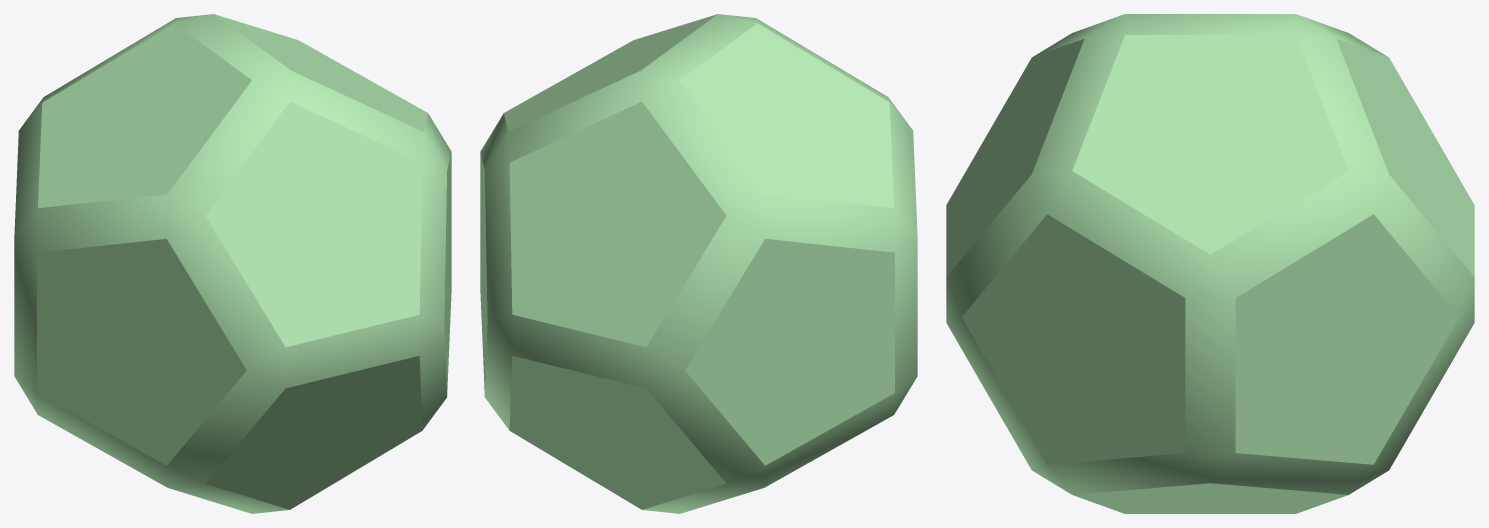
Rendered from Geo_col.fbx.
The picture shows the model from 3 angles, left to right: view 1: azimuth 30°, elevation 25°; view 2: azimuth 150°, elevation 25°; view 3: azimuth 270°, elevation 25°; orthographic projection. The views are drawn at different scales.
Parts seen in each view (by area): view 1: collider1; view 2: collider1; view 3: collider1.
Boxes of the visible parts, x1=… form: collider1: x1=14, y1=14, x2=451, y2=513; collider1: x1=480, y1=14, x2=917, y2=513; collider1: x1=946, y1=14, x2=1474, y2=513.
Bounding box in the file's own units: 1.78 × 1.78 × 1.78.
